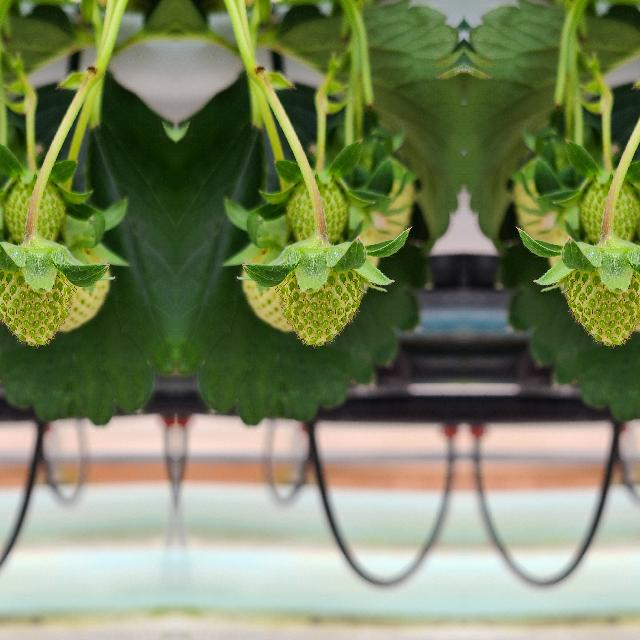Health_25: (277, 270, 361, 346), (565, 270, 640, 345), (0, 270, 73, 345), (283, 177, 349, 247), (1, 177, 67, 247), (577, 177, 640, 247)
